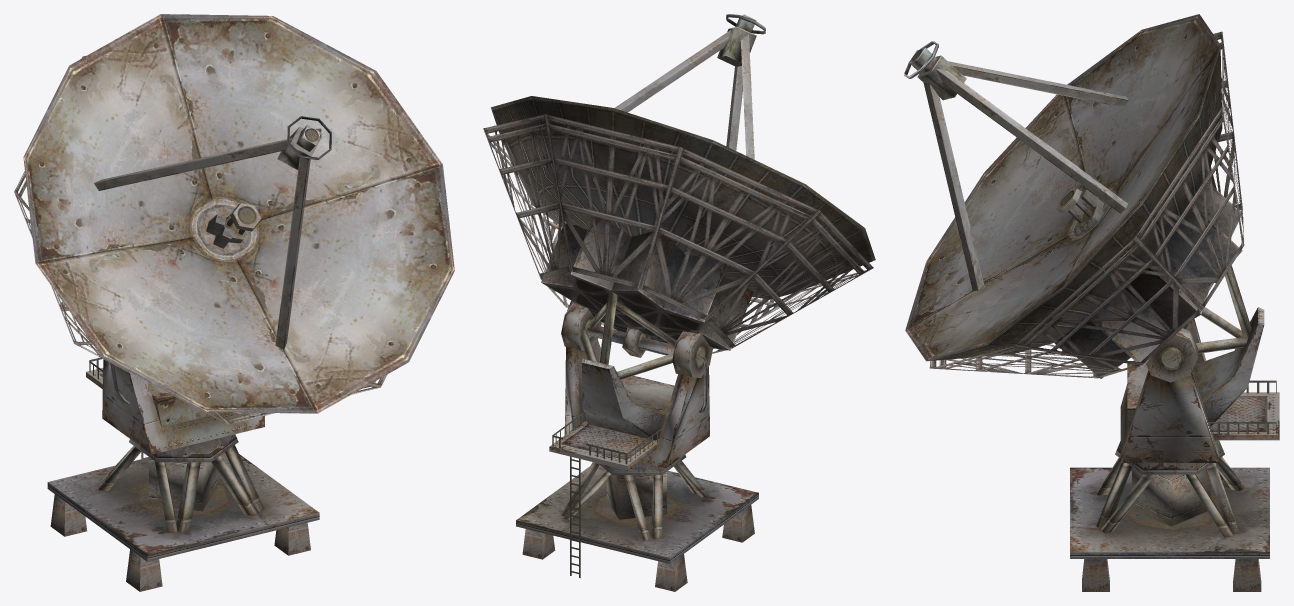
Rendered from Building_JyzLd001_lod1.glb.
3 renders of one model, left to right at view 1: azimuth 30°, elevation 25°; view 2: azimuth 150°, elevation 25°; view 3: azimuth 270°, elevation 25°, orthographic. The views are drawn at different scales.
Visible parts, largest first — view 1: jyz_ld001_lod1_0; view 2: jyz_ld001_lod1_0; view 3: jyz_ld001_lod1_0.
Boxes of the visible parts, bbox=[...] form: jyz_ld001_lod1_0: bbox=[14, 14, 454, 591]; jyz_ld001_lod1_0: bbox=[483, 14, 875, 591]; jyz_ld001_lod1_0: bbox=[904, 14, 1279, 591].
Size of the model in its own units: 78.74 by 94.02 by 62.61.
2 materials, 2 textured.
